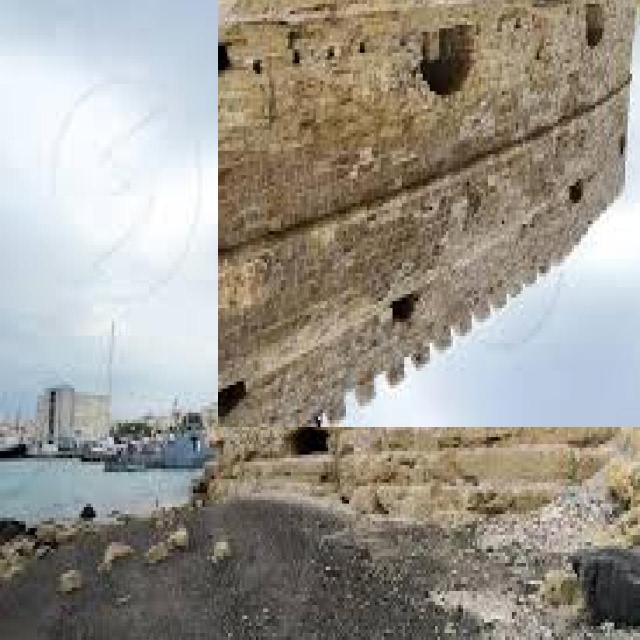Kules: (219, 1, 640, 428)
